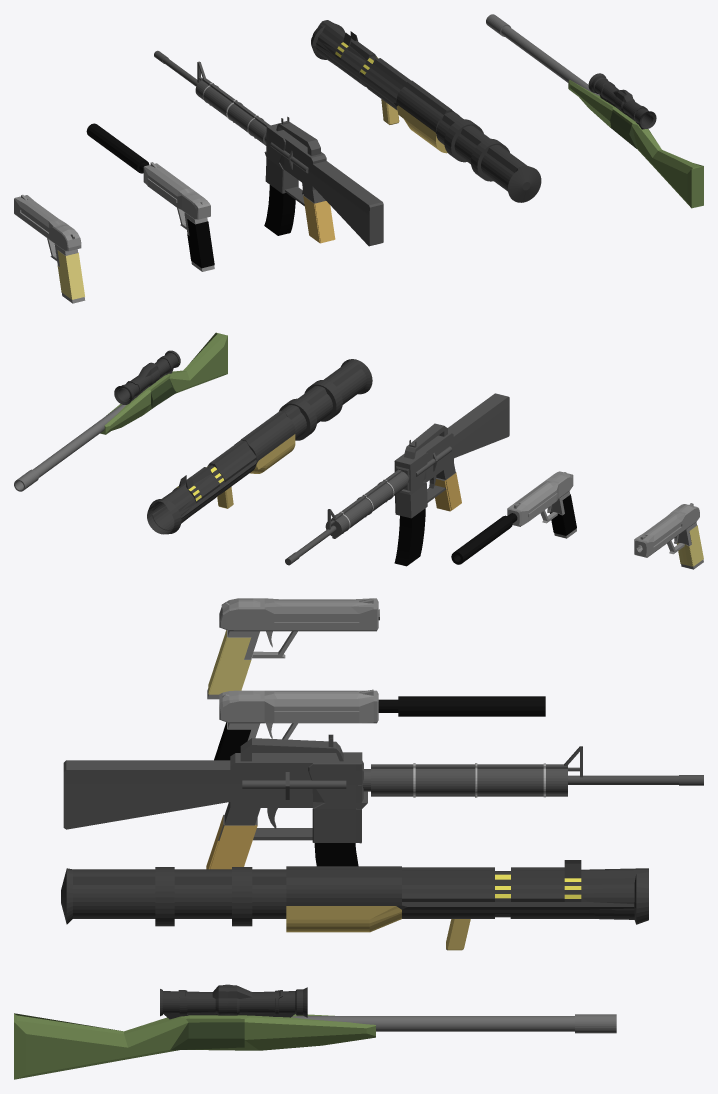
Rendered from gameWeapons.glb.
3 renders of one model, top to bottom at view 1: azimuth 30°, elevation 25°; view 2: azimuth 150°, elevation 25°; view 3: azimuth 270°, elevation 25°, orthographic. The views are drawn at different scales.
Parts seen in each view (by area): view 1: Gun (3), Gun (4), Gun (5), Gun (2), Gun (1); view 2: Gun (3), Gun (4), Gun (5), Gun (2), Gun (1); view 3: Gun (4), Gun (3), Gun (5), Gun (2), Gun (1).
Part boxes in pixels (x1=…): Gun (3): x1=154, y1=50, x2=383, y2=246; Gun (4): x1=311, y1=20, x2=541, y2=202; Gun (5): x1=486, y1=14, x2=703, y2=208; Gun (2): x1=86, y1=123, x2=214, y2=271; Gun (1): x1=14, y1=194, x2=85, y2=303; Gun (3): x1=285, y1=393, x2=509, y2=566; Gun (4): x1=147, y1=359, x2=372, y2=534; Gun (5): x1=14, y1=332, x2=227, y2=491; Gun (2): x1=451, y1=471, x2=576, y2=564; Gun (1): x1=634, y1=503, x2=703, y2=569; Gun (4): x1=61, y1=860, x2=648, y2=950; Gun (3): x1=63, y1=734, x2=703, y2=869; Gun (5): x1=14, y1=984, x2=616, y2=1079; Gun (2): x1=214, y1=689, x2=545, y2=760; Gun (1): x1=207, y1=598, x2=379, y2=699.
Size of the model in its own units: 7.24 by 1.41 by 5.21.
